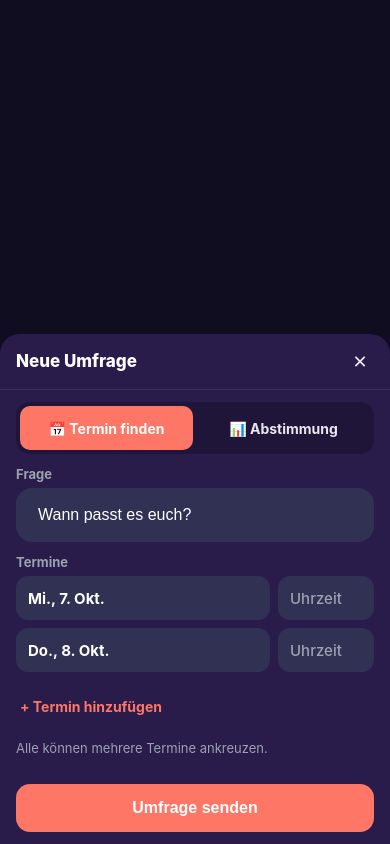
Test case: PollComposerSheet › a server rejection shows the translated reason and keeps the draft
The width and height of the screenshot is (390, 844).
Click the button "Umfrage senden".
click(195, 808)  # box x1=16 y1=784 x2=374 y2=832
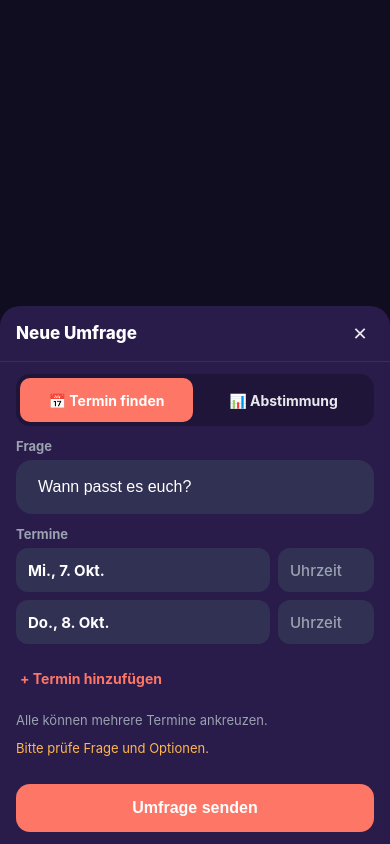
Expected: the field labelled "Frage" holds "Wann passt es euch?", x1=16 y1=460 x2=374 y2=514
Expected: the text "Bitte prüfe Frage und Optionen." is shown, x1=16 y1=740 x2=209 y2=756
